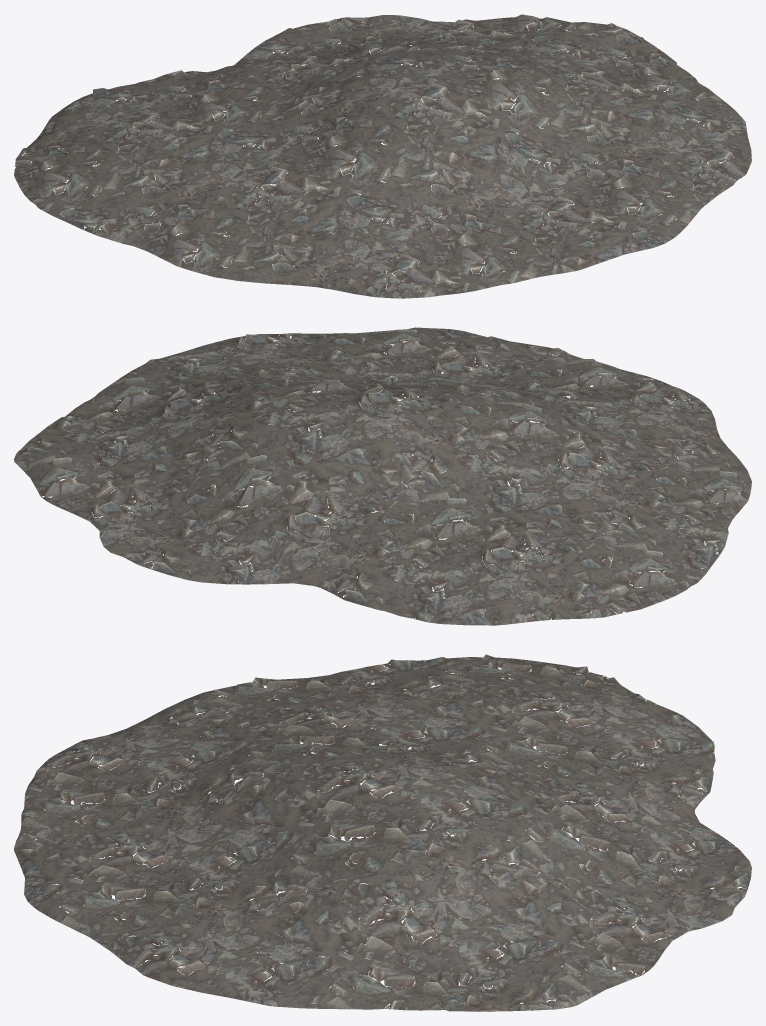
3 views of the same model, one above another, from view 1: azimuth 30°, elevation 25°; view 2: azimuth 150°, elevation 25°; view 3: azimuth 270°, elevation 25° (orthographic). The views are drawn at different scales.
Parts seen in each view (by area): view 1: SM_SaradominTemple_Rubble_02_v3_LOD0; view 2: SM_SaradominTemple_Rubble_02_v3_LOD0; view 3: SM_SaradominTemple_Rubble_02_v3_LOD0.
Part boxes in pixels (box(x1,y1,x2,y2)): SM_SaradominTemple_Rubble_02_v3_LOD0: box(14, 14, 751, 298); SM_SaradominTemple_Rubble_02_v3_LOD0: box(14, 327, 751, 625); SM_SaradominTemple_Rubble_02_v3_LOD0: box(14, 654, 751, 1011).
Size of the model in its own units: 14.04 by 1.38 by 12.34.
Materials: 1 (1 with a texture image).
